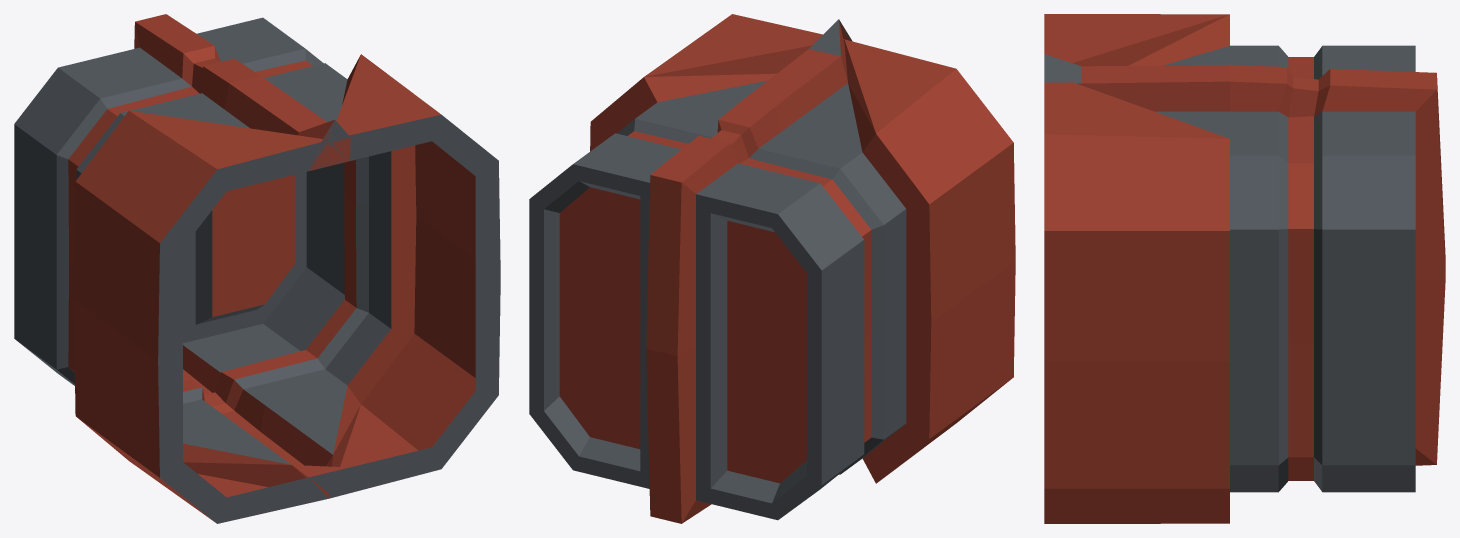
Rendered from Mothership_02_Junction_Red.fbx.
3 renders of one model, left to right at view 1: azimuth 30°, elevation 25°; view 2: azimuth 150°, elevation 25°; view 3: azimuth 270°, elevation 25°, orthographic. The views are drawn at different scales.
Parts seen in each view (by area): view 1: Mothership_02_Junction_Red; view 2: Mothership_02_Junction_Red; view 3: Mothership_02_Junction_Red.
Part boxes in pixels (x1,y1,x2,y2): Mothership_02_Junction_Red: [14, 14, 500, 523]; Mothership_02_Junction_Red: [529, 14, 1015, 523]; Mothership_02_Junction_Red: [1044, 14, 1445, 523].
Bounding box in the file's own units: 508 × 546 × 469.
Materials: 1 (1 with a texture image).
